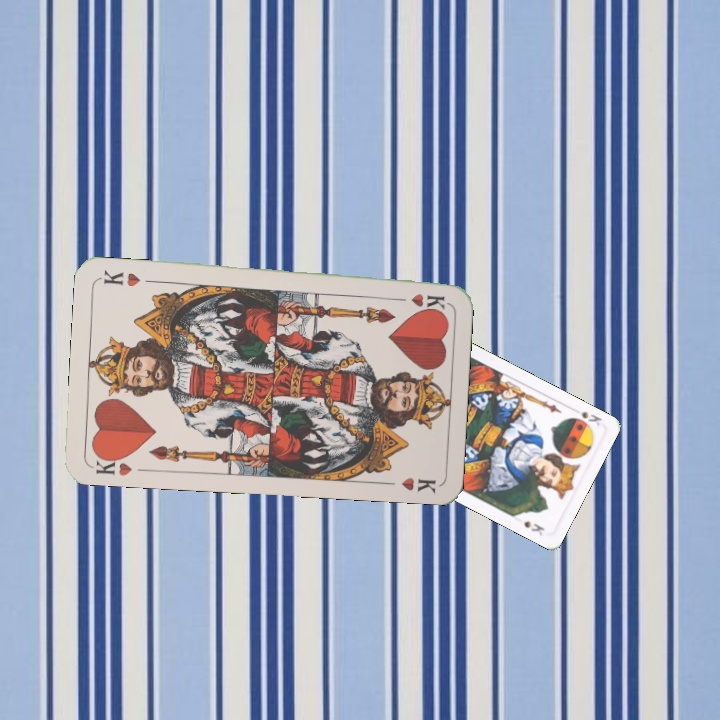HK: (88, 450, 134, 479), (388, 289, 448, 310)
SK: (567, 405, 604, 428)
